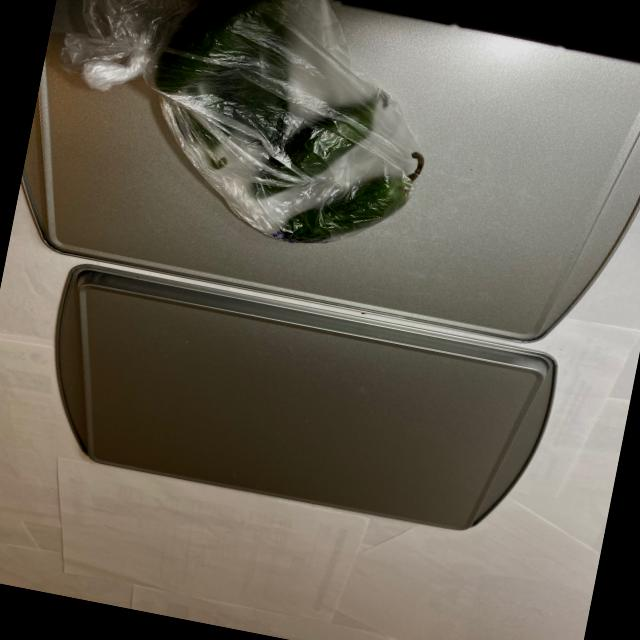chilli: (109, 0, 449, 264)
